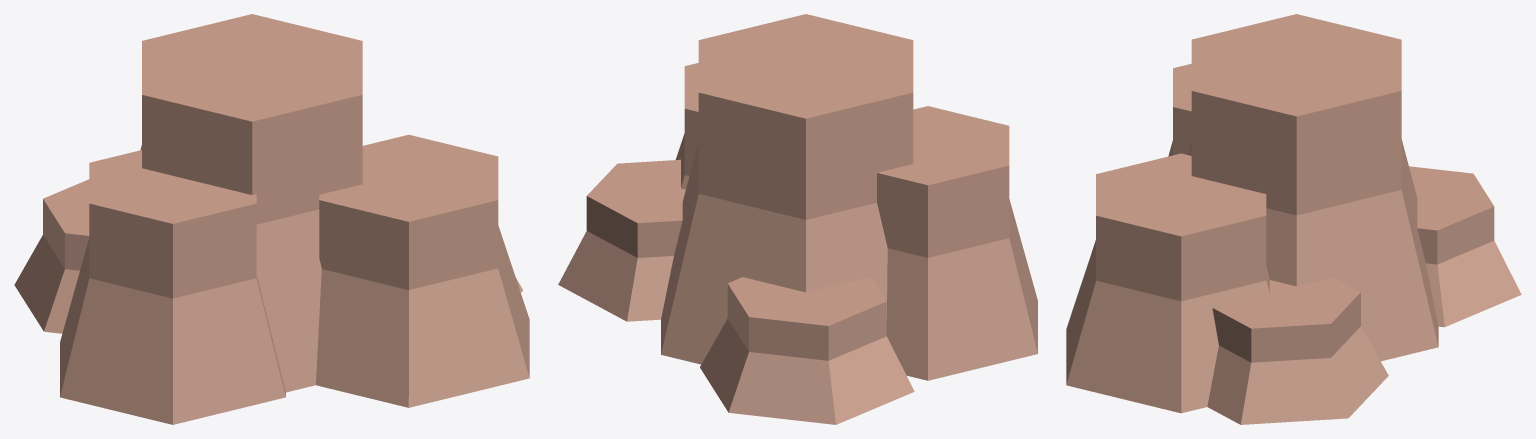
The model's file is rock_largeA.glb.
3 renders of one model, left to right at view 1: azimuth 30°, elevation 25°; view 2: azimuth 150°, elevation 25°; view 3: azimuth 270°, elevation 25°, orthographic. The views are drawn at different scales.
Parts seen in each view (by area): view 1: rock_largeA; view 2: rock_largeA; view 3: rock_largeA.
Part boxes in pixels (bbox=[...]): rock_largeA: bbox=[14, 14, 529, 424]; rock_largeA: bbox=[558, 14, 1037, 424]; rock_largeA: bbox=[1066, 14, 1521, 424].
Size of the model in its own units: 0.9193 by 0.5 by 0.8339.
